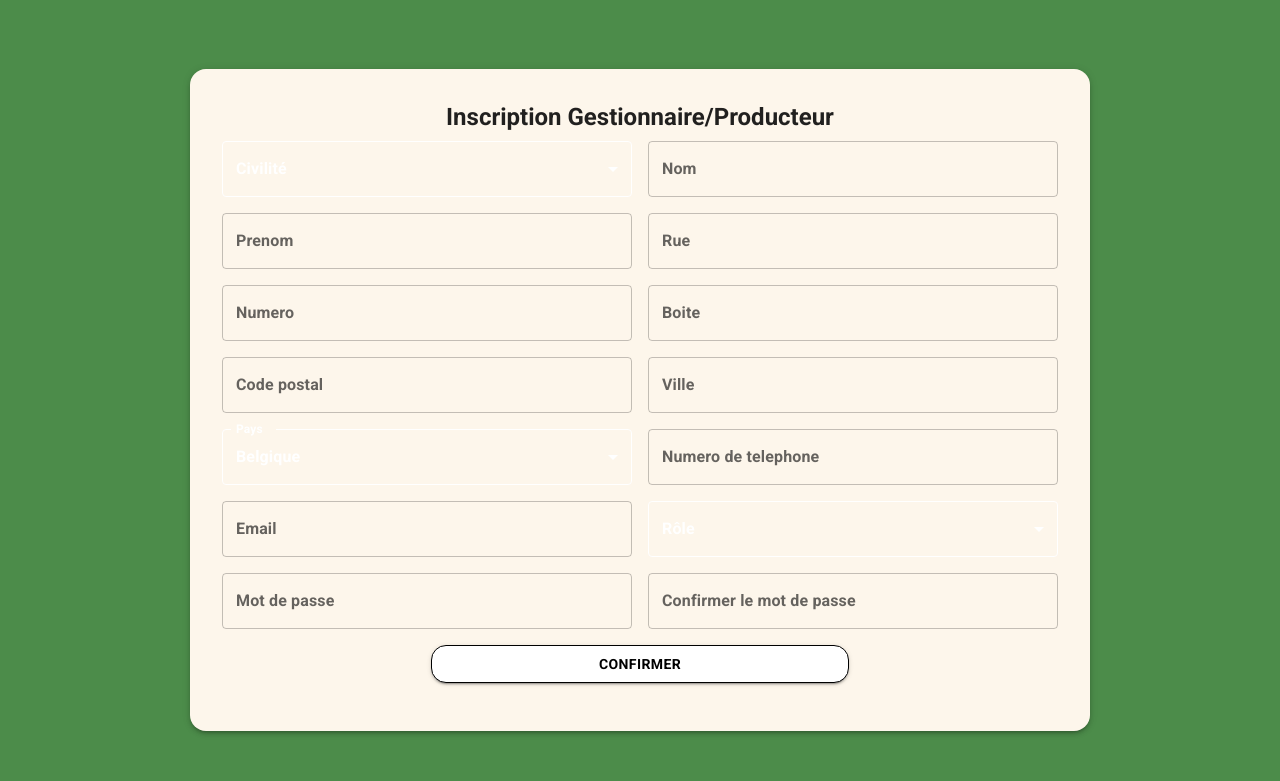
RegisterPageAdmin › should not submit the form if required fields are missing
Do not fill in the required fields
Click the button "Confirmer". click: click(640, 664)
box: [431,645,849,684]
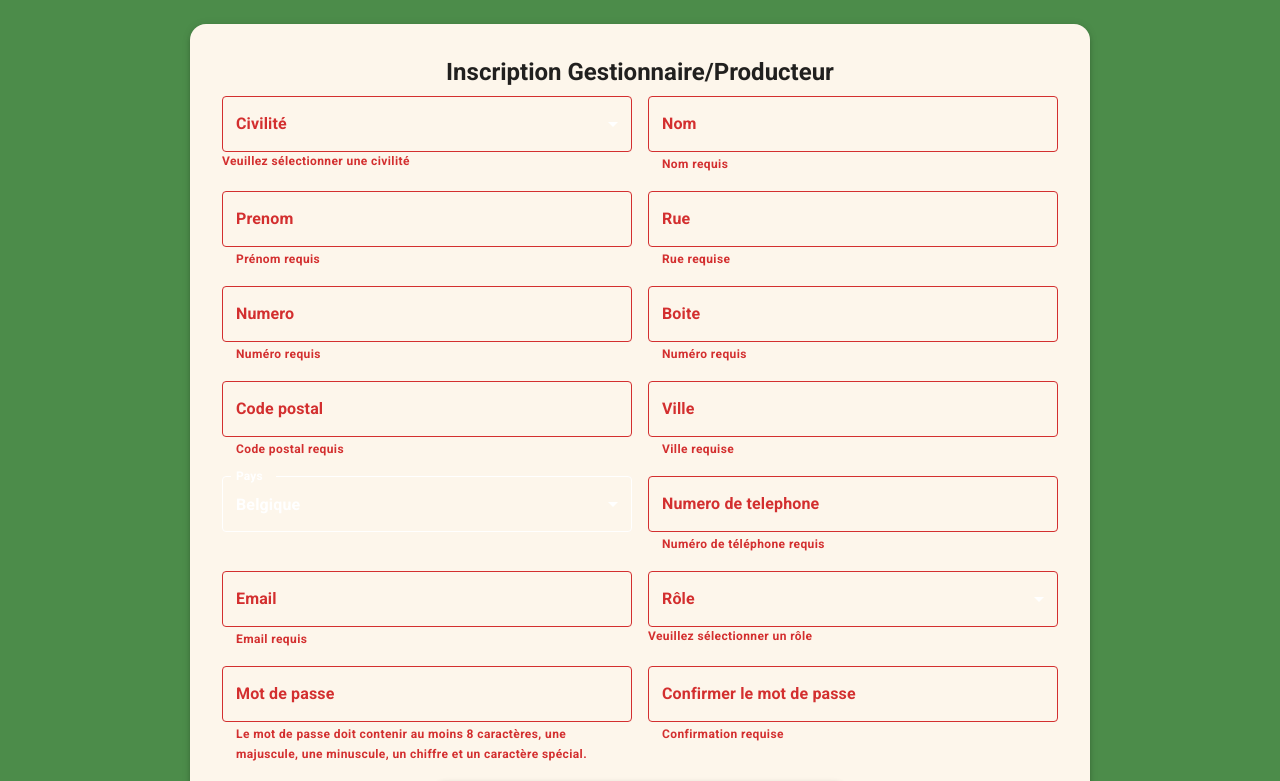
Now the text "Veuillez sélectionner une civilité" is shown, box [222,154,410,168]
Now the text "Prénom requis" is shown, box [236,252,320,266]
Now the text "Rue requise" is shown, box [662,252,730,266]
